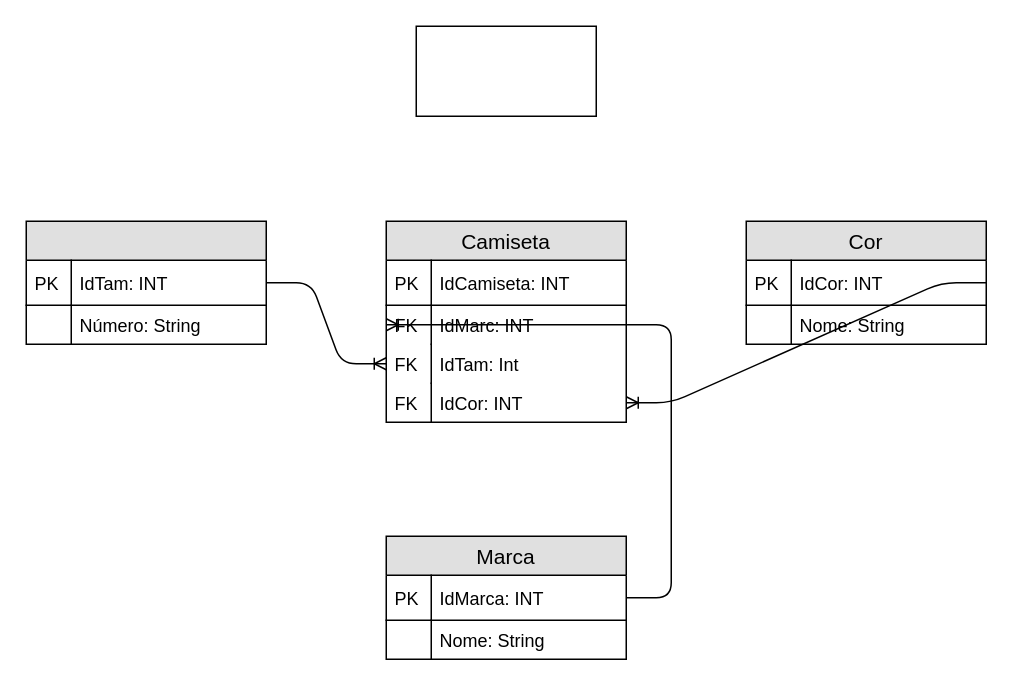
Some shapes in this 1025 by 690 pixel diagram are drawn without their labels. Here are the shapes that lost their labels. From the top down, the box of each, then its label:
(415, 25, 596, 116): LÓGICO
(25, 220, 266, 344): Tamanho
